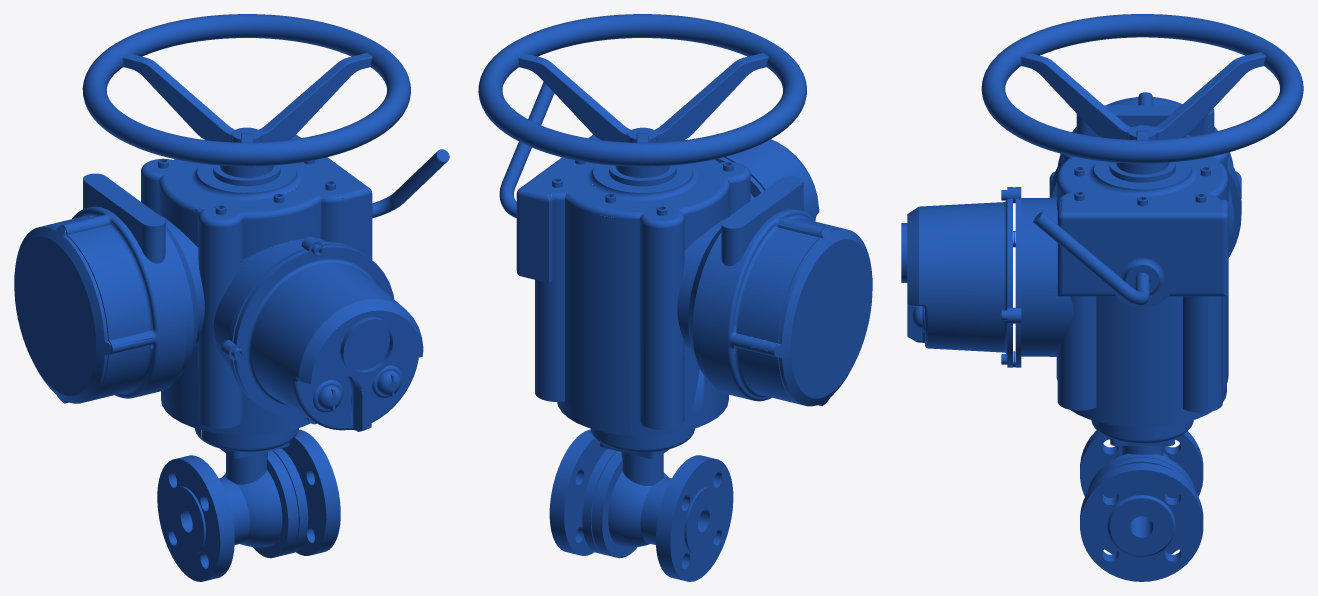
The model's file is 电动球阀.glb.
The picture shows the model from 3 angles, left to right: view 1: azimuth 30°, elevation 25°; view 2: azimuth 150°, elevation 25°; view 3: azimuth 270°, elevation 25°; orthographic projection. The views are drawn at different scales.
Parts seen in each view (by area): view 1: 电动球阀; view 2: 电动球阀; view 3: 电动球阀.
Part boxes in pixels (x1,y1,x2,y2): 电动球阀: (14,14,449,581); 电动球阀: (478,14,872,581); 电动球阀: (901,14,1303,581).
Bounding box in the file's own units: 0.3265 × 0.4445 × 0.3418.
